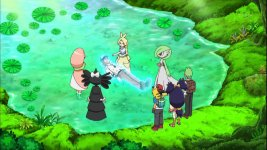gardevoir: (149, 44, 178, 85)
pikachu: (150, 87, 167, 100)
